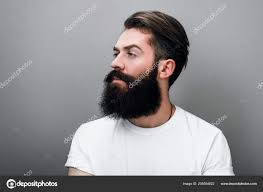white_male: (100, 29, 168, 118)
